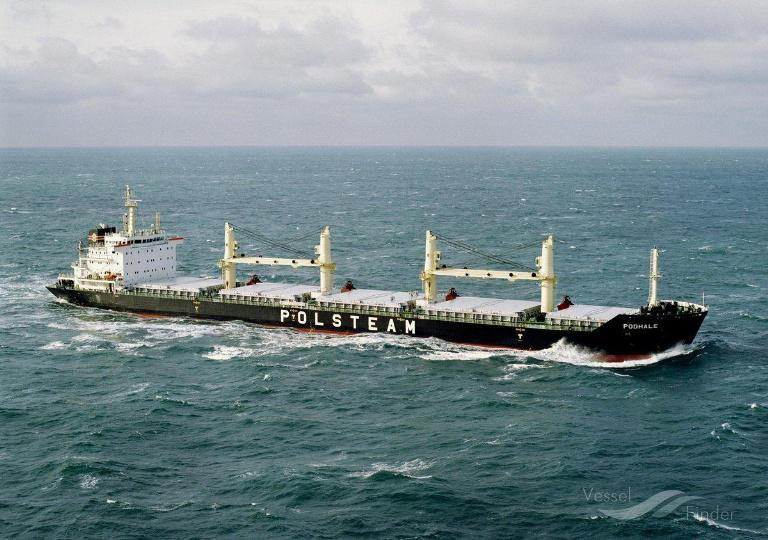OCR: (270, 304, 424, 337), (619, 317, 659, 335)
